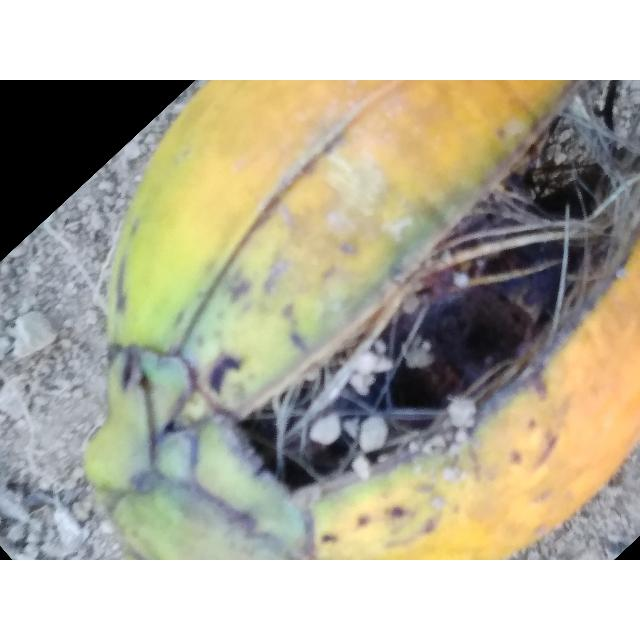damaged: (81, 81, 638, 560)
